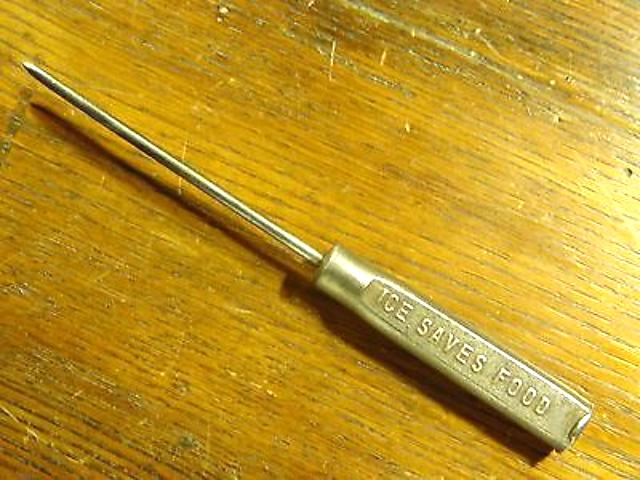ice pick: (22, 61, 592, 453)
